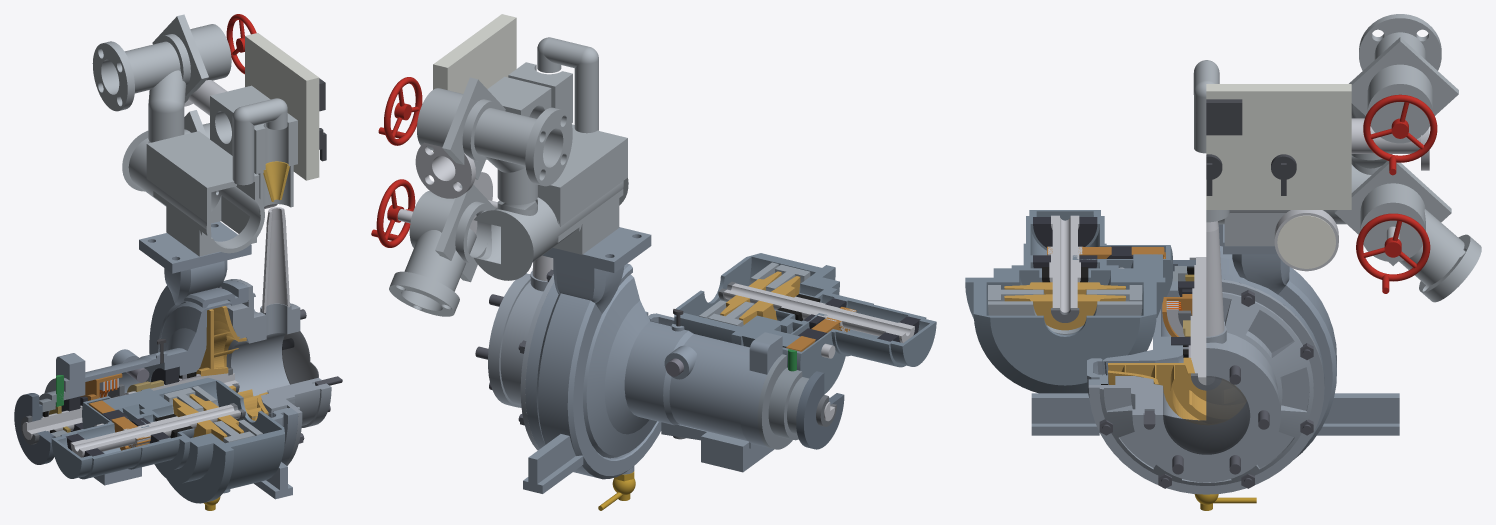
Rendered from NCPK_nasos_razrez.glb.
3 views of the same model, side by side, from view 1: azimuth 30°, elevation 25°; view 2: azimuth 150°, elevation 25°; view 3: azimuth 270°, elevation 25° (orthographic). The views are drawn at different scales.
Visible parts, largest first — view 1: 20 Корпус насоса (улитка, напорный патрубок, приливы), П 3 Коллектор нормального давления, П 10 Вентиль напорный подачи воды в цистерну, ВД 14 Корпус ступени (с приливами входа и выхода), 12 Крышка насоса, П 4 Панель управления, ПС 1 Кран эжектора, ВД 5 Корпус опор и шестерни, ВД 4 Вал-шестерня (полый: охлаждение водой), ПС 10 Диффузор, ПС 2 Дозатор, 1 Полумуфта (+20 smaller); view 2: 20 Корпус насоса (улитка, напорный патрубок, приливы), П 3 Коллектор нормального давления, П 10 Вентиль напорный подачи воды в цистерну, П 1 Вентиль напорный нормального давления (правый), 12 Крышка насоса, ПС 1 Кран эжектора, ВД 14 Корпус ступени (с приливами входа и выхода), ВД 5 Корпус опор и шестерни, П 4 Панель управления, 25 Корпус задней опоры, ВД 4 Вал-шестерня (полый: охлаждение водой), ПС 3 Патрубок подвода пенообразователя (+8 smaller); view 3: 12 Крышка насоса, П 4 Панель управления, 20 Корпус насоса (улитка, напорный патрубок, приливы), ВД 14 Корпус ступени (с приливами входа и выхода), П 1 Вентиль напорный нормального давления (правый), П 10 Вентиль напорный подачи воды в цистерну, 13 Сетка, П 3 Коллектор нормального давления, ВД 4 Вал-шестерня (полый: охлаждение водой), П 12 Манометр: шкала, П 10 Вентиль в цистерну: маховик, П 1 Вентиль правый: маховик (+20 smaller).
Part boxes in pixels (x1,y1,x2,y2): 20 Корпус насоса (улитка, напорный патрубок, приливы): (56, 221, 298, 499); П 3 Коллектор нормального давления: (122, 130, 264, 256); П 10 Вентиль напорный подачи воды в цистерну: (92, 14, 231, 142); ВД 14 Корпус ступени (с приливами входа и выхода): (139, 377, 284, 503); 12 Крышка насоса: (225, 279, 331, 465); П 4 Панель управления: (245, 33, 319, 180); ПС 1 Кран эжектора: (232, 98, 297, 185); ВД 5 Корпус опор и шестерни: (60, 396, 190, 479); ВД 4 Вал-шестерня (полый: охлаждение водой): (70, 404, 240, 457); ПС 10 Диффузор: (262, 207, 289, 313); ПС 2 Дозатор: (210, 85, 270, 155); 1 Полумуфта: (14, 393, 54, 464); 20 Корпус насоса (улитка, напорный патрубок, приливы): (523, 227, 782, 493); П 3 Коллектор нормального давления: (474, 124, 628, 280); П 10 Вентиль напорный подачи воды в цистерну: (417, 77, 572, 204); П 1 Вентиль напорный нормального давления (правый): (389, 184, 495, 316); 12 Крышка насоса: (488, 271, 554, 450); ПС 1 Кран эжектора: (508, 37, 598, 133); ВД 14 Корпус ступени (с приливами входа и выхода): (674, 253, 839, 345); ВД 5 Корпус опор и шестерни: (780, 287, 926, 394); П 4 Панель управления: (433, 14, 516, 151); 25 Корпус задней опоры: (757, 354, 827, 449); ВД 4 Вал-шестерня (полый: охлаждение водой): (723, 283, 914, 342); ПС 3 Патрубок подвода пенообразователя: (415, 142, 475, 198); 12 Крышка насоса: (1088, 279, 1324, 494); П 4 Панель управления: (1206, 84, 1351, 209); 20 Корпус насоса (улитка, напорный патрубок, приливы): (1031, 224, 1399, 459); ВД 14 Корпус ступени (с приливами входа и выхода): (965, 268, 1165, 393); П 1 Вентиль напорный нормального давления (правый): (1334, 161, 1481, 302); П 10 Вентиль напорный подачи воды в цистерну: (1349, 14, 1458, 160); 13 Сетка: (1163, 376, 1250, 454); П 3 Коллектор нормального давления: (1218, 154, 1392, 246); ВД 4 Вал-шестерня (полый: охлаждение водой): (1048, 215, 1082, 312); П 12 Манометр: шкала: (1277, 215, 1335, 268); П 10 Вентиль в цистерну: маховик: (1363, 94, 1437, 175); П 1 Вентиль правый: маховик: (1356, 213, 1430, 293).
Size of the model in its own units: 0.6734 by 0.771 by 0.7231.
